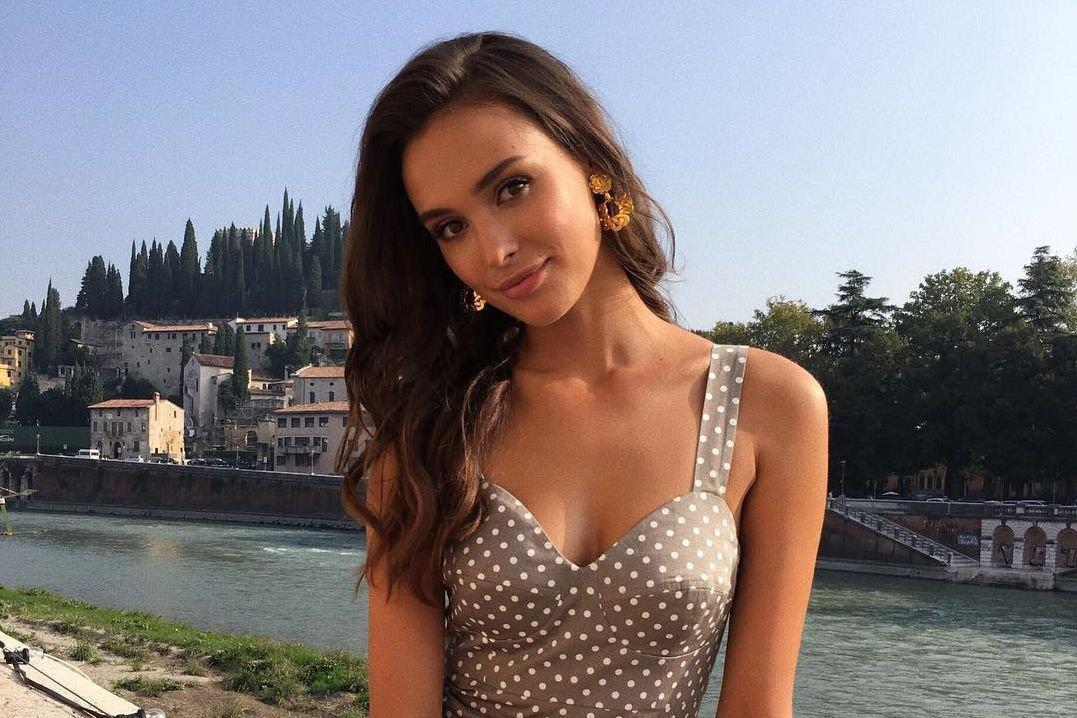Sober: (407, 117, 580, 310)
